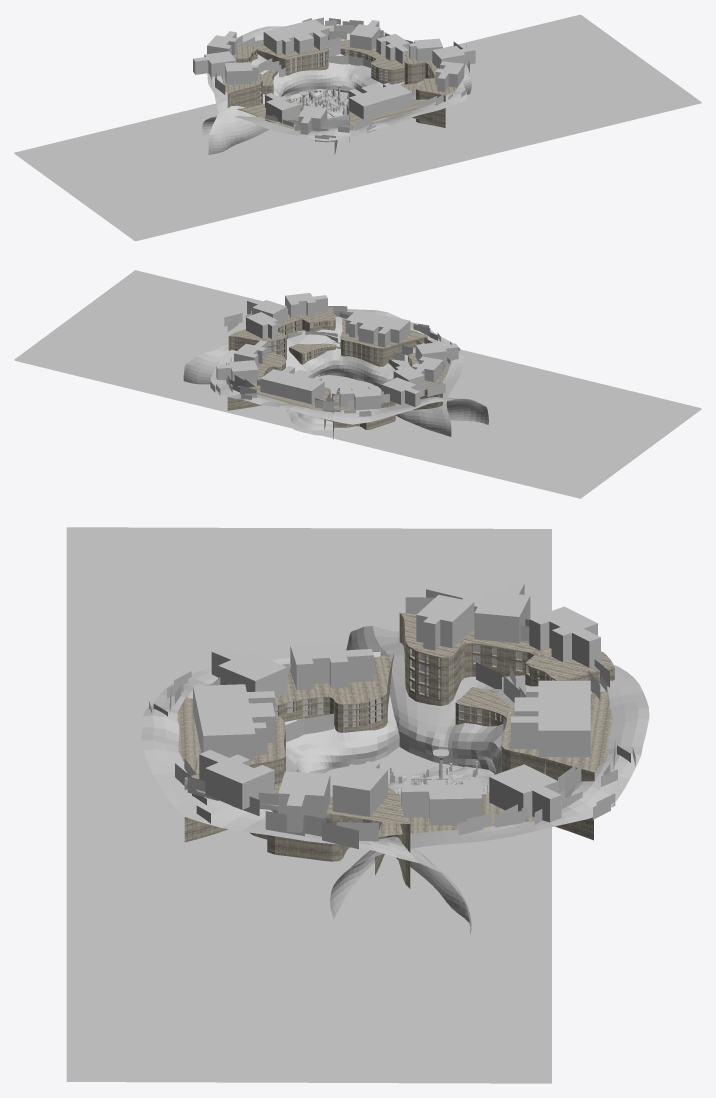
Rendered from garden_04.fbx.
3 renders of one model, top to bottom at view 1: azimuth 30°, elevation 25°; view 2: azimuth 150°, elevation 25°; view 3: azimuth 270°, elevation 25°, orthographic. The views are drawn at different scales.
Parts seen in each view (by area): view 1: WATER, Buildings.001, Cliff, Base Concrete, VEGI Row of Trees, VEGI Row of Trees.001, SEA BASE, grass; view 2: WATER, Buildings.001, Cliff, Base Concrete, VEGI Row of Trees, VEGI Row of Trees.001, SEA BASE, sand; view 3: WATER, Buildings.001, Cliff, Base Concrete, VEGI Row of Trees.001, VEGI Row of Trees, SEA BASE, grass.
Boxes of the visible parts, x1,y1,x2,y2 form: WATER: [14, 14, 701, 240]; Buildings.001: [193, 19, 475, 134]; Cliff: [202, 25, 471, 154]; Base Concrete: [221, 28, 456, 154]; VEGI Row of Trees: [210, 17, 413, 94]; VEGI Row of Trees.001: [265, 41, 469, 142]; SEA BASE: [14, 102, 701, 241]; grass: [287, 89, 348, 116]; WATER: [14, 270, 701, 497]; Buildings.001: [216, 293, 458, 410]; Cliff: [183, 309, 488, 436]; Base Concrete: [227, 306, 450, 439]; VEGI Row of Trees: [210, 357, 445, 416]; VEGI Row of Trees.001: [224, 305, 459, 377]; SEA BASE: [14, 360, 701, 498]; sand: [286, 393, 359, 435]; WATER: [66, 527, 551, 1081]; Buildings.001: [193, 581, 600, 832]; Cliff: [141, 626, 649, 934]; Base Concrete: [177, 612, 614, 888]; VEGI Row of Trees.001: [149, 663, 378, 849]; VEGI Row of Trees: [405, 589, 635, 835]; SEA BASE: [66, 1080, 551, 1083]; grass: [388, 766, 494, 794].
Size of the model in its own units: 769 by 96.86 by 342.
